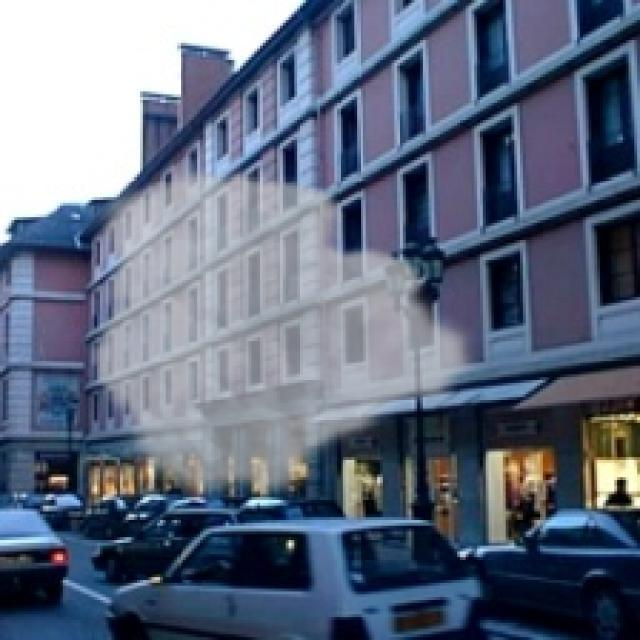Smoke: (86, 163, 480, 506)
